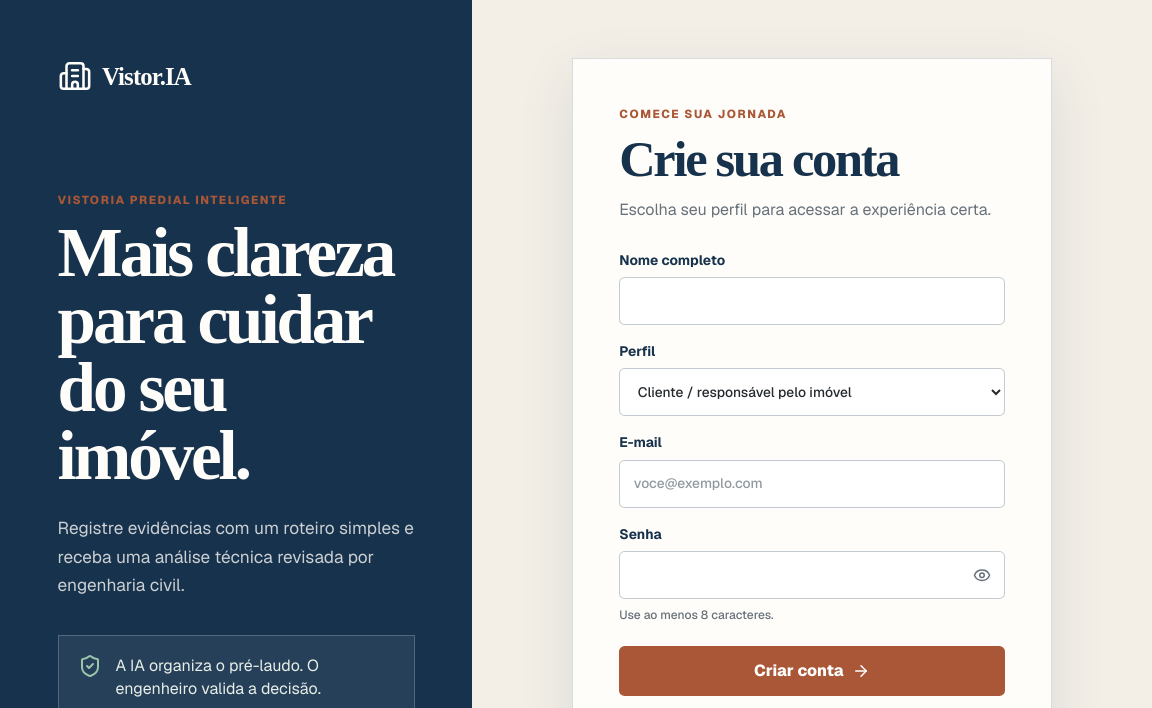
Test: AuthForm › mostra CREA obrigatório somente ao selecionar engenheiro
The width and height of the screenshot is (1152, 708).
Expected: the field labelled "CREA" is not shown
Select "Engenheiro civil" in the dropdown labelled "Perfil" at (812, 392), box [619,368,1005,416]
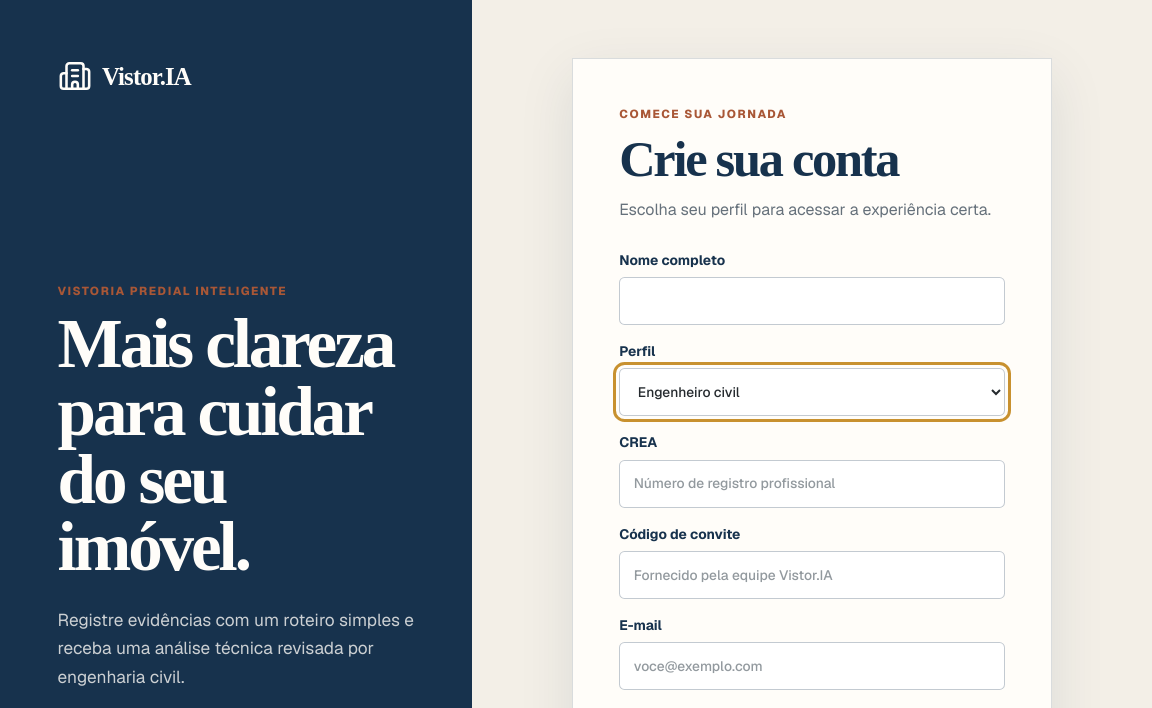
Select "Cliente / responsável pelo imóvel" in the dropdown labelled "Perfil" at (812, 392), box [619,368,1005,416]
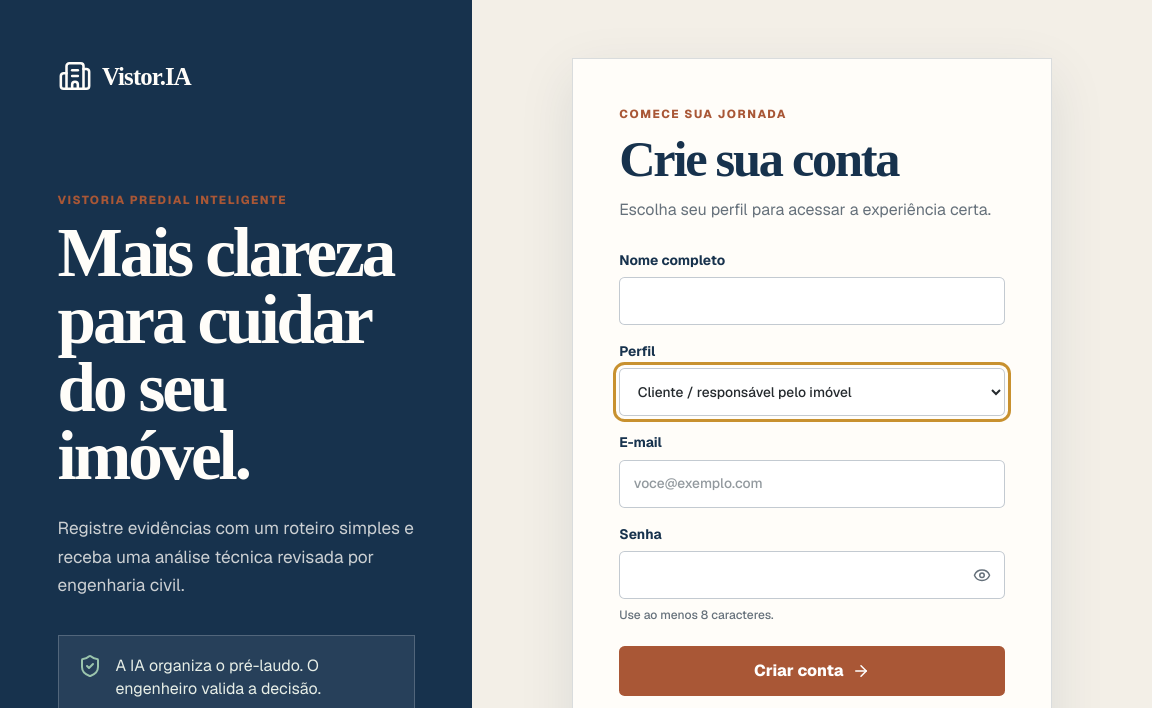
Result: the text labelled "CREA" is gone
Result: the text labelled "Código de convite" is gone
